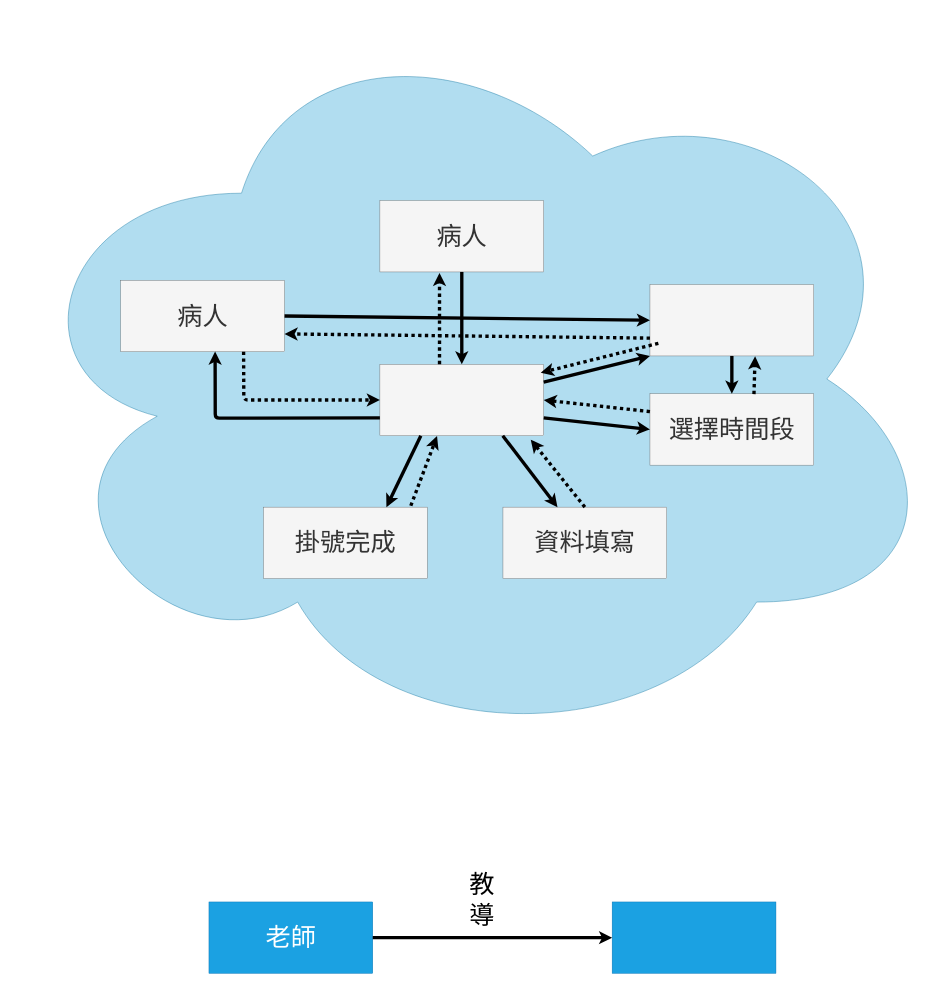
Some shapes in this 951 by 981 pixel diagram are drawn without their labels. The centre of each missing label's shape, as x and y in pixels:
學生: the point at 694,937
選擇醫生: the point at 732,320
醫院掛號網站: the point at 461,400
